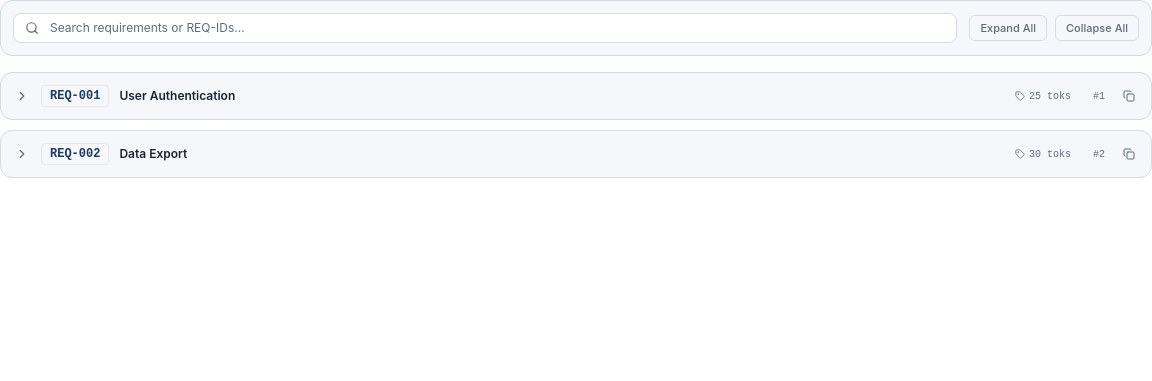
Test: RequirementList › expands all and collapses all with control buttons
The width and height of the screenshot is (1152, 381).
Click the button "Expand All": (1008,28) x1=969 y1=15 x2=1047 y2=41
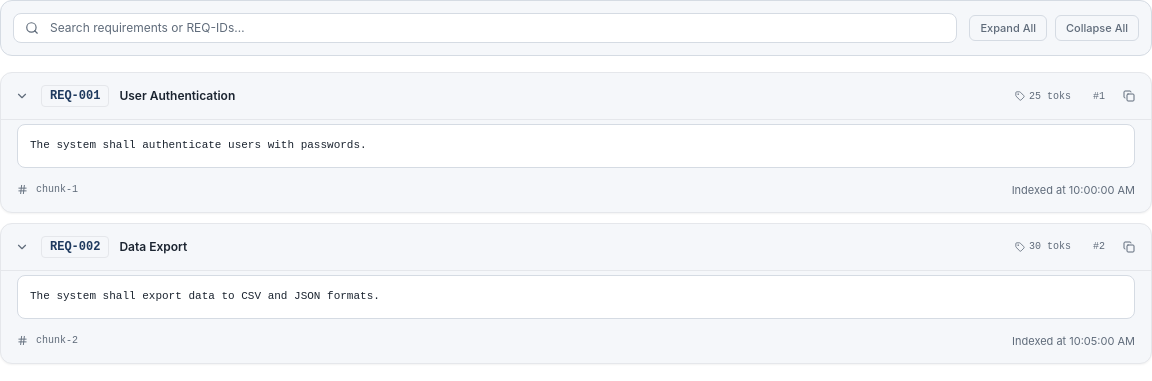
Expected: the text "The system shall authenticate users with passwords." is shown, x1=17 y1=124 x2=1135 y2=168
Expected: the text "The system shall export data to CSV and JSON formats." is shown, x1=17 y1=275 x2=1135 y2=319
Click the button "Collapse All": (1097,28) x1=1055 y1=15 x2=1139 y2=41
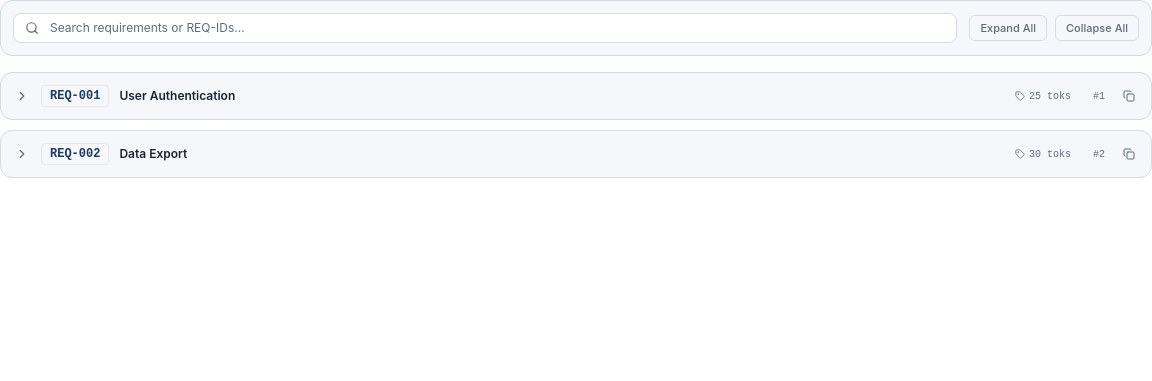
Expected: the text "The system shall authenticate users with passwords." is gone
